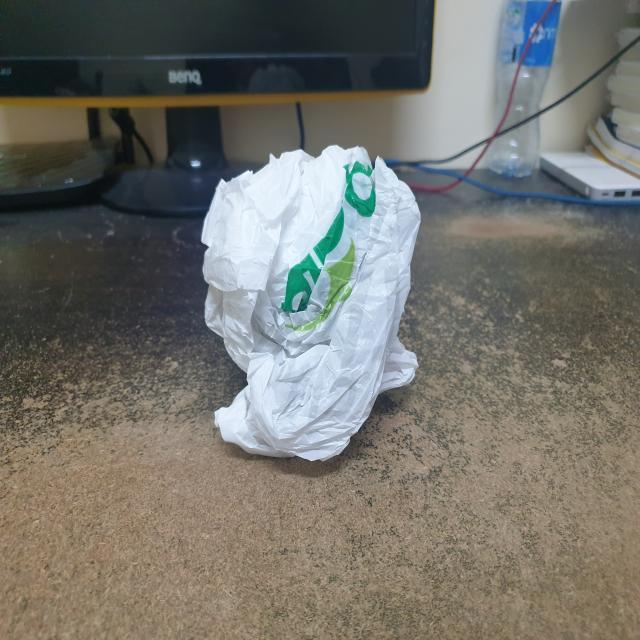Plastic_Bag: (184, 136, 434, 477)
